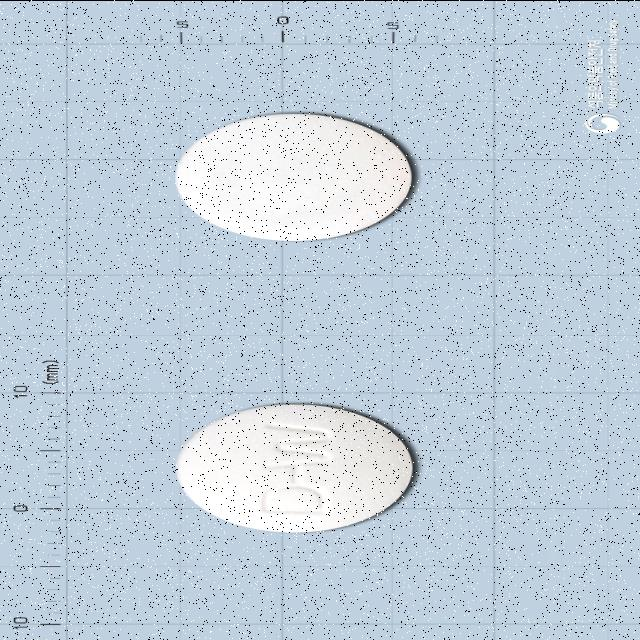Cipoxacin: (171, 400, 419, 534)
